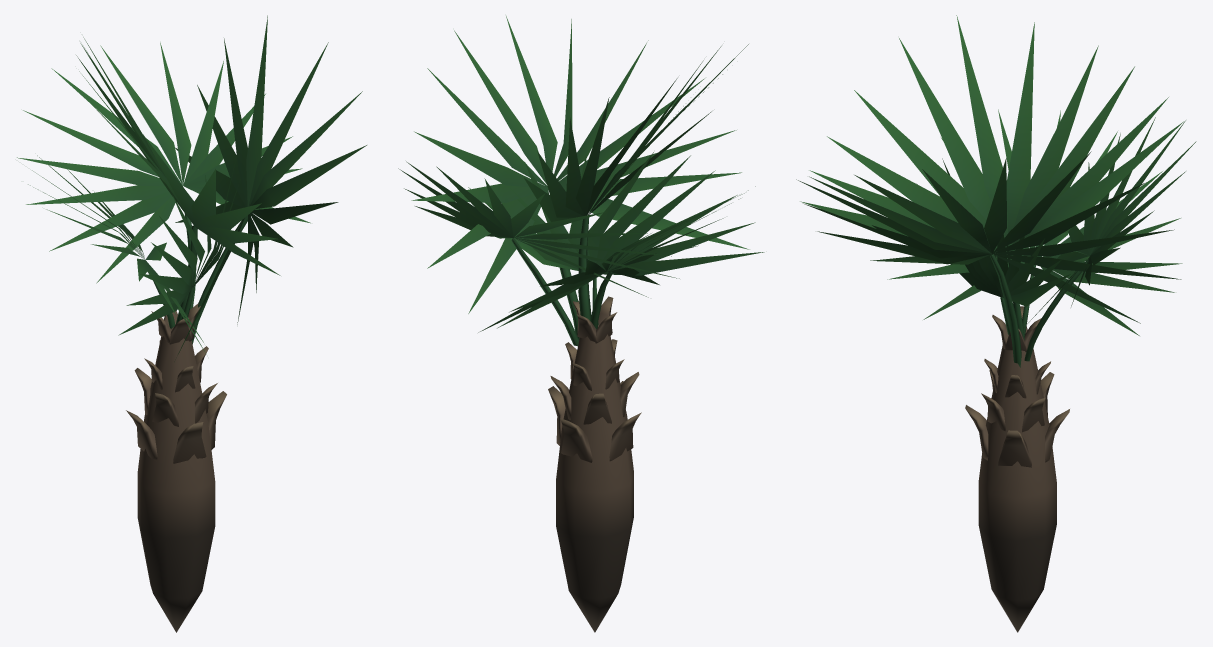
3 views of the same model, side by side, from view 1: azimuth 30°, elevation 25°; view 2: azimuth 150°, elevation 25°; view 3: azimuth 270°, elevation 25° (orthographic). The views are drawn at different scales.
Visible parts, largest first — view 1: plant.031; view 2: plant.031; view 3: plant.031.
Boxes of the visible parts, <box> form: plant.031: <box>17,15,366,632</box>; plant.031: <box>398,16,764,632</box>; plant.031: <box>796,15,1196,632</box>.
Bounding box in the file's own units: 0.2687 × 0.5 × 0.3221.
